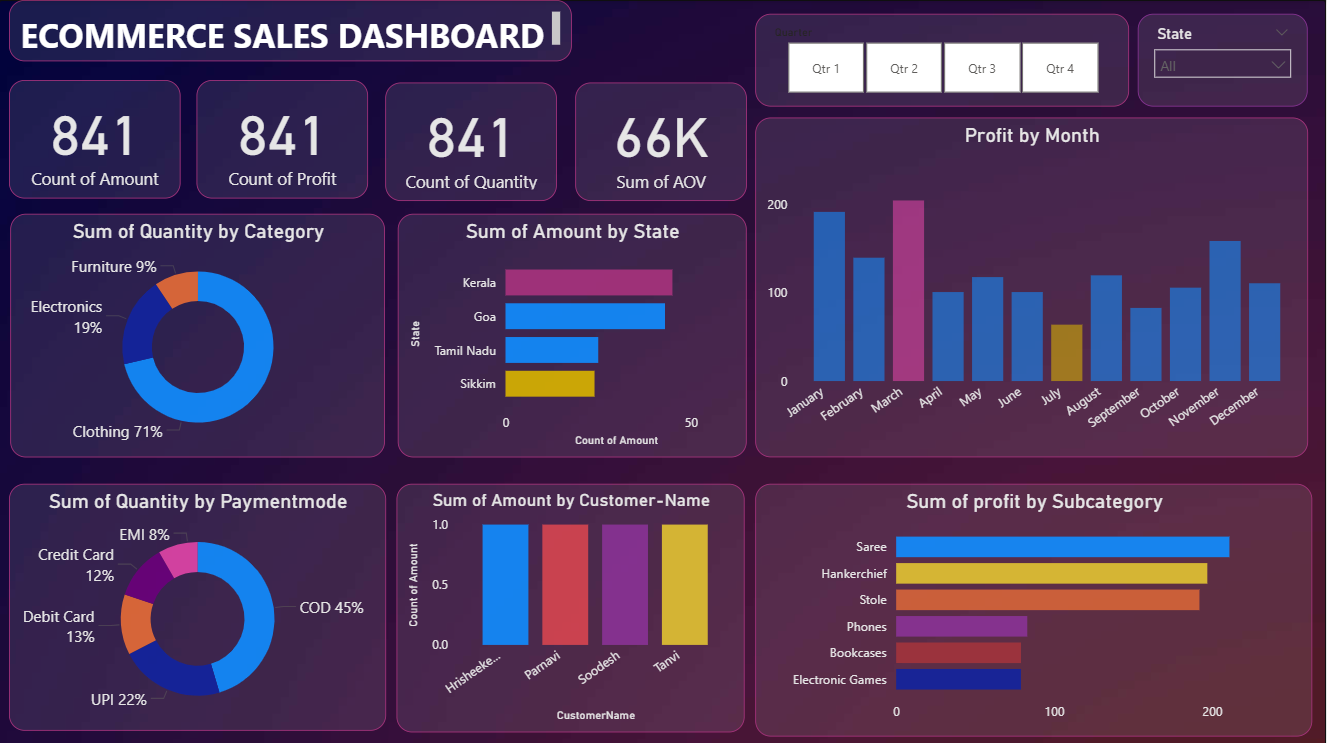

This screenshot's page, from the dashboard's own definition file:
{"tool":"powerbi","page":{"name":"Ecommerce Sales","canvas":[1280,720],"ordinal":0},"visuals":[{"type":"textbox","box":[9.7,0,542.9,59.1],"z":0},{"type":"columnChart","title":"Profit by Month","fields":{"Category":["Orders.Order Date.Variation.Date Hierarchy.Month"],"Y":["CountNonNull(Details.Profit)"]},"box":[729.9,113.4,533.2,328.2],"z":1000},{"type":"donutChart","title":"Sum of Quantity by Category","fields":{"Category":["Details.Category"],"Y":["CountNonNull(Details.Quantity)"]},"box":[10.9,206.3,361.9,235.3],"z":2000},{"type":"clusteredBarChart","title":"Sum of profit by Subcategory","fields":{"Y":["CountNonNull(Details.Profit)"],"Category":["Details.Sub-Category"]},"box":[730,466.6,537.9,244.3],"z":3000},{"type":"donutChart","title":"Sum of Quantity by Paymentmode","fields":{"Y":["CountNonNull(Details.Quantity)"],"Category":["Details.PaymentMode"]},"box":[9.6,466.6,363.6,238.8],"z":4000},{"type":"card","title":"Sum of profit by Subcategory","fields":{"Values":["CountNonNull(Details.Amount)"]},"box":[9.7,77.2,165.3,114.6],"z":5000},{"type":"card","title":"Sum of profit by Subcategory","fields":{"Values":["CountNonNull(Details.Profit)"]},"box":[190.6,77.2,165.3,114.6],"z":6000},{"type":"card","title":"Sum of profit by Subcategory","fields":{"Values":["CountNonNull(Details.Quantity)"]},"box":[372.8,79.6,165.3,114.6],"z":7000},{"type":"card","title":"Sum of profit by Subcategory","fields":{"Values":["Sum(Details.AOV)"]},"box":[556.2,79.6,165.3,114.6],"z":8000},{"type":"clusteredBarChart","title":"Sum of Amount by State","fields":{"Y":["CountNonNull(Details.Amount)"],"Category":["Orders.State"]},"box":[384.9,206.3,336.6,235.3],"z":9000},{"type":"columnChart","title":"Sum of Amount by Customer-Name","fields":{"Category":["Orders.CustomerName"],"Y":["CountNonNull(Details.Amount)"]},"box":[384.2,466.6,336.2,240.1],"z":10000},{"type":"slicer","fields":{"Values":["Orders.Order Date.Variation.Date Hierarchy.Quarter"]},"box":[729.9,13.3,360.7,89.3],"z":11000},{"type":"slicer","fields":{"Values":["Orders.State"]},"box":[1099.1,13.3,164.1,89.3],"z":12000}]}

Visuals, with their boxes in screenshot pixels (x1, y1, x2, y2), scaled from the page's 1280x720 canvas onto the 1327x743 screenshot:
textbox: [left=10, top=0, right=573, bottom=61]
"Profit by Month" columnChart: [left=757, top=117, right=1309, bottom=456]
"Sum of Quantity by Category" donutChart: [left=11, top=213, right=386, bottom=456]
"Sum of profit by Subcategory" clusteredBarChart: [left=757, top=482, right=1314, bottom=734]
"Sum of Quantity by Paymentmode" donutChart: [left=10, top=482, right=387, bottom=728]
"Sum of profit by Subcategory" card: [left=10, top=80, right=181, bottom=198]
"Sum of profit by Subcategory" card: [left=198, top=80, right=369, bottom=198]
"Sum of profit by Subcategory" card: [left=386, top=82, right=558, bottom=200]
"Sum of profit by Subcategory" card: [left=577, top=82, right=748, bottom=200]
"Sum of Amount by State" clusteredBarChart: [left=399, top=213, right=748, bottom=456]
"Sum of Amount by Customer-Name" columnChart: [left=398, top=482, right=747, bottom=729]
slicer - Orders.Order Date.Variation.Date Hierarchy.Quarter: [left=757, top=14, right=1131, bottom=106]
slicer - Orders.State: [left=1139, top=14, right=1310, bottom=106]
